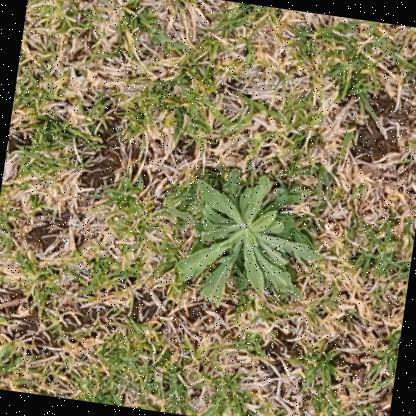Weeds: (166, 159, 333, 321)
